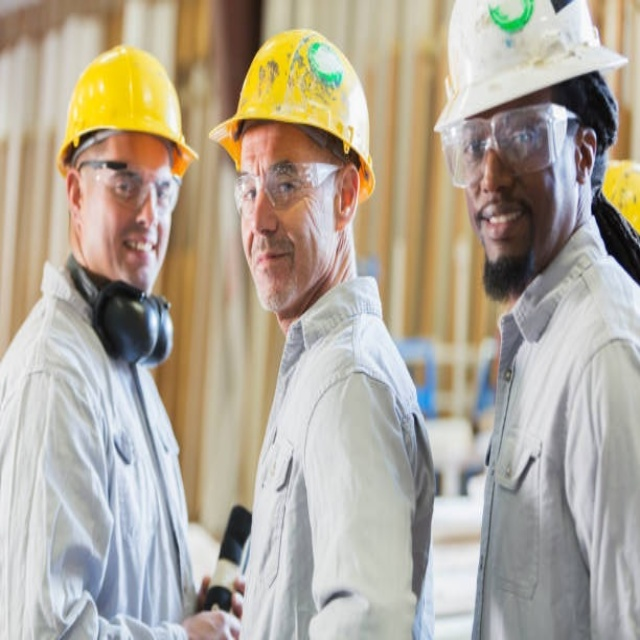Gafas: (438, 105, 582, 188), (231, 157, 343, 220), (76, 157, 186, 216)
Sin_guantes: (182, 604, 239, 640)
Sin_mascara: (474, 195, 527, 260), (117, 223, 163, 273), (250, 243, 295, 292)
